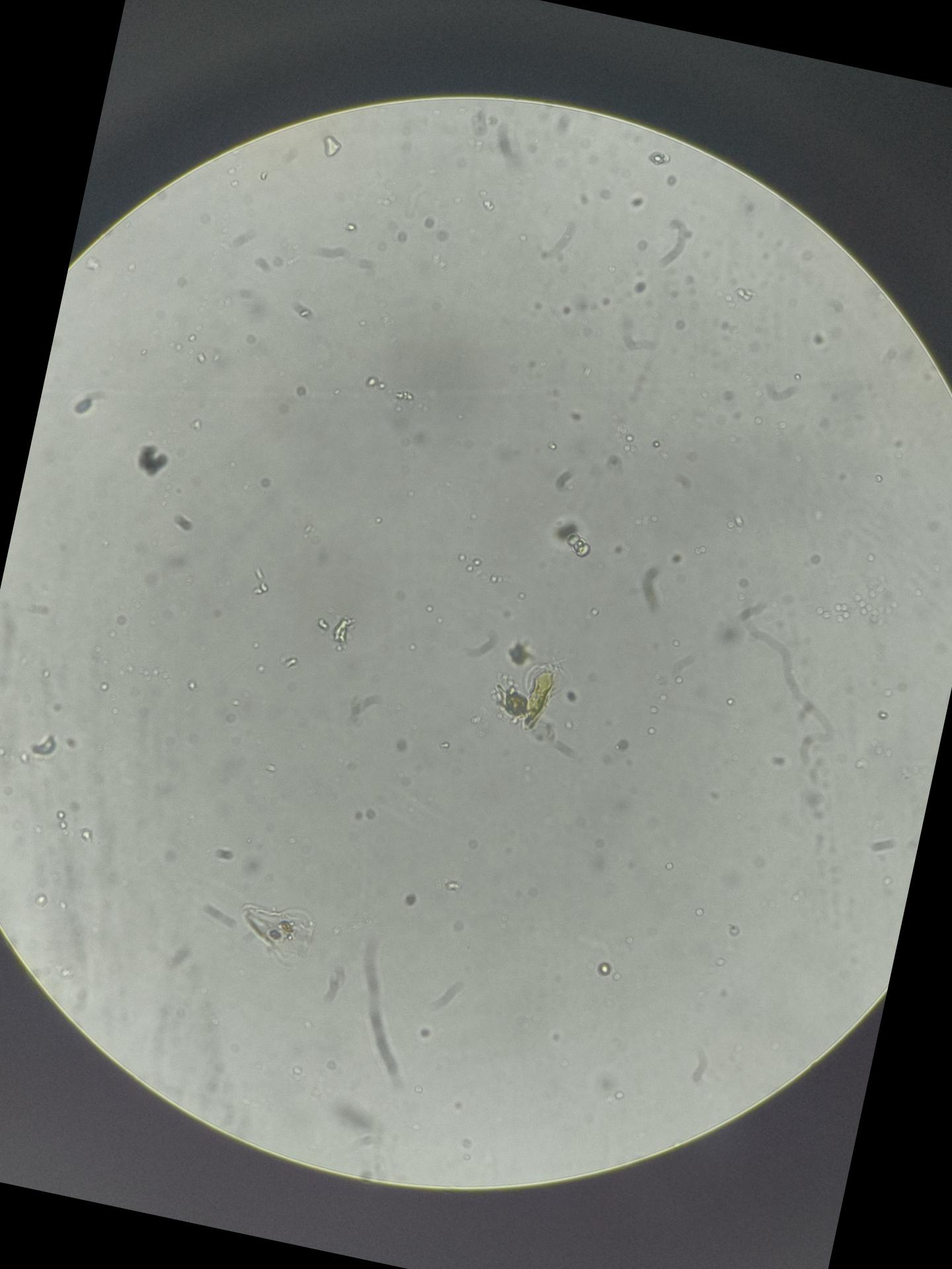Euglena: (513, 649, 565, 739)
